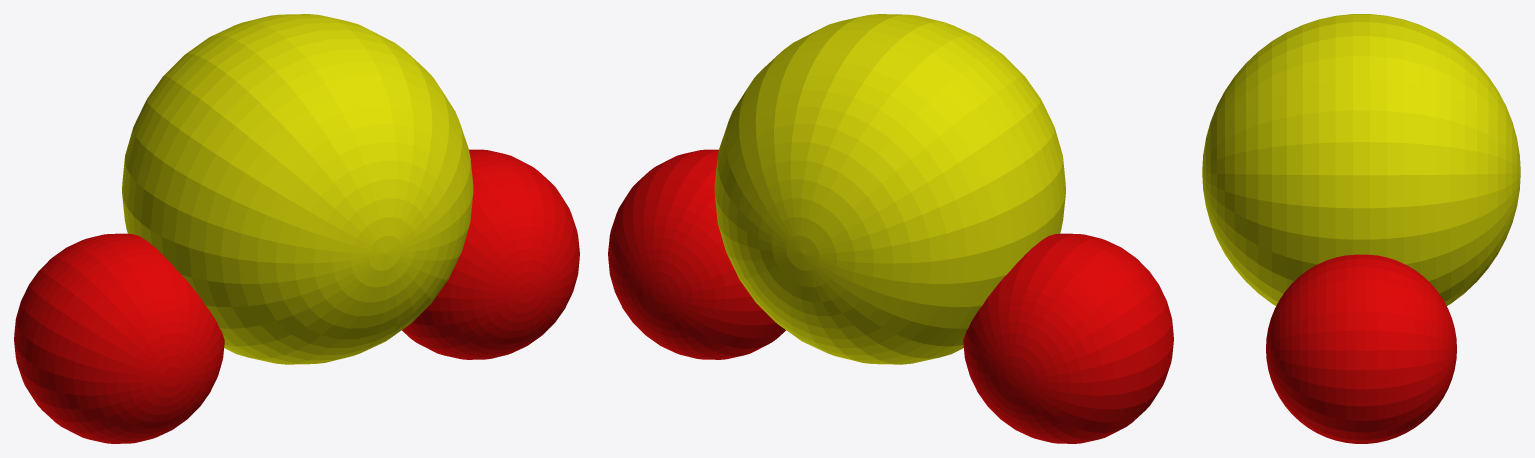
File: Sulfur Dioxide.glb
3 views of the same model, side by side, from view 1: azimuth 30°, elevation 25°; view 2: azimuth 150°, elevation 25°; view 3: azimuth 270°, elevation 25° (orthographic). The views are drawn at different scales.
Parts seen in each view (by area): view 1: world; view 2: world; view 3: world.
Part boxes in pixels (x1,y1,x2,y2): world: (14, 14, 579, 443); world: (608, 14, 1173, 443); world: (1202, 14, 1520, 443).
Bounding box in the file's own units: 3.53 × 2.27 × 2.
